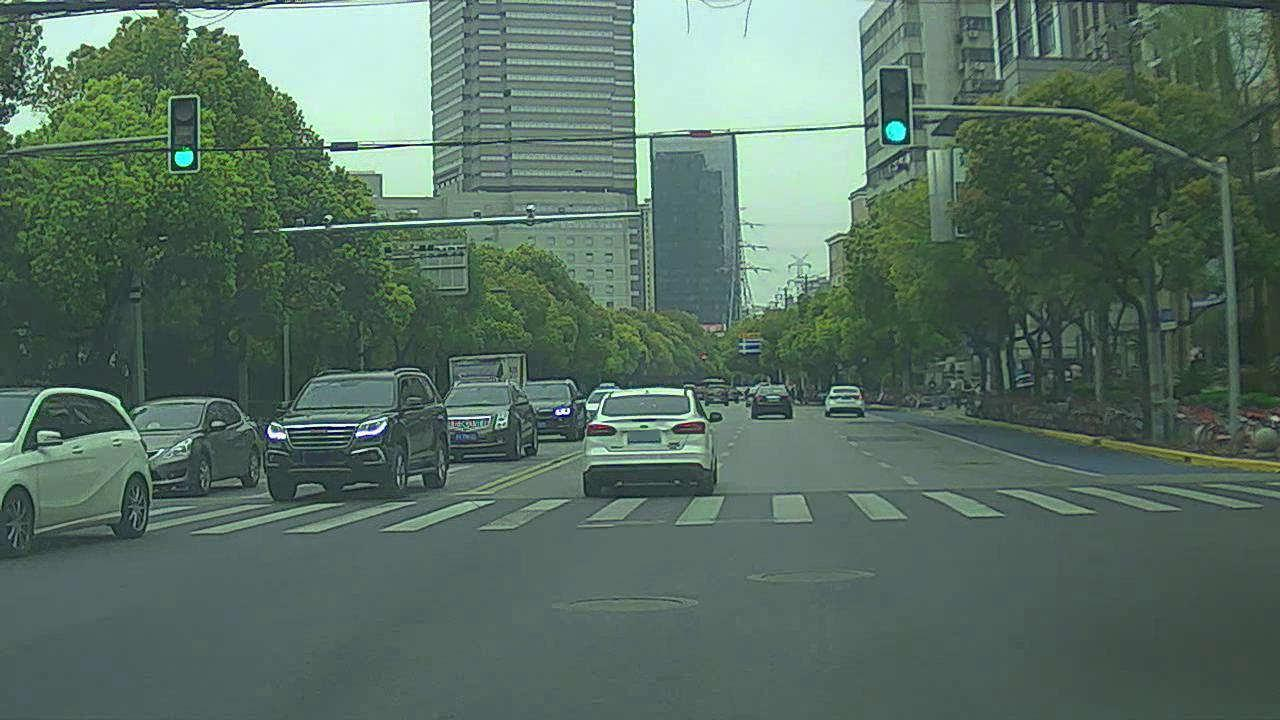traffic_light: (163, 96, 202, 173), (880, 68, 913, 149)
